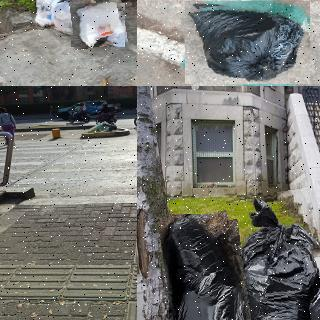Garbage: (232, 190, 320, 320), (182, 0, 312, 86), (163, 211, 252, 320), (70, 1, 126, 49), (48, 0, 94, 36), (29, 0, 70, 29), (106, 124, 117, 132), (97, 122, 108, 130), (99, 127, 109, 132)
